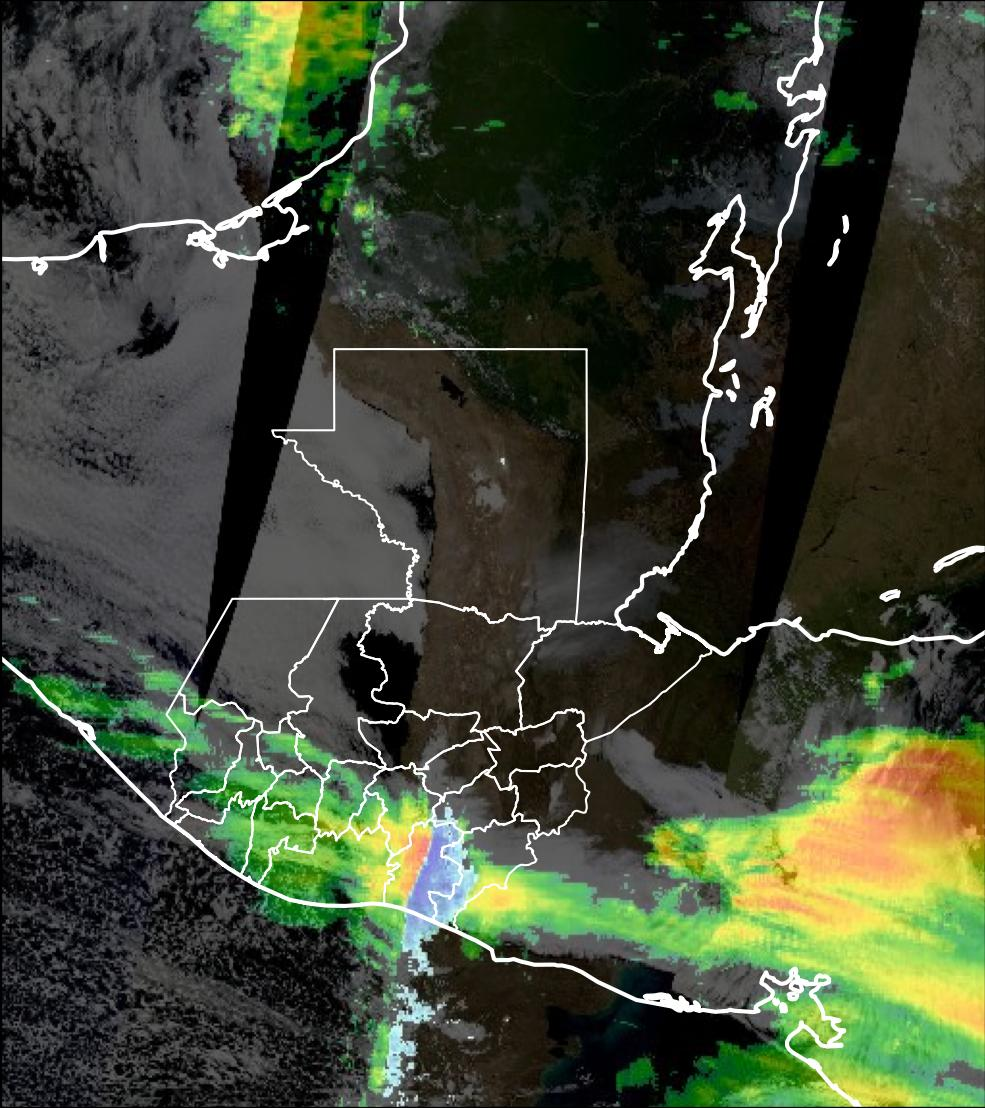precipitacion: (739, 726, 985, 931)
